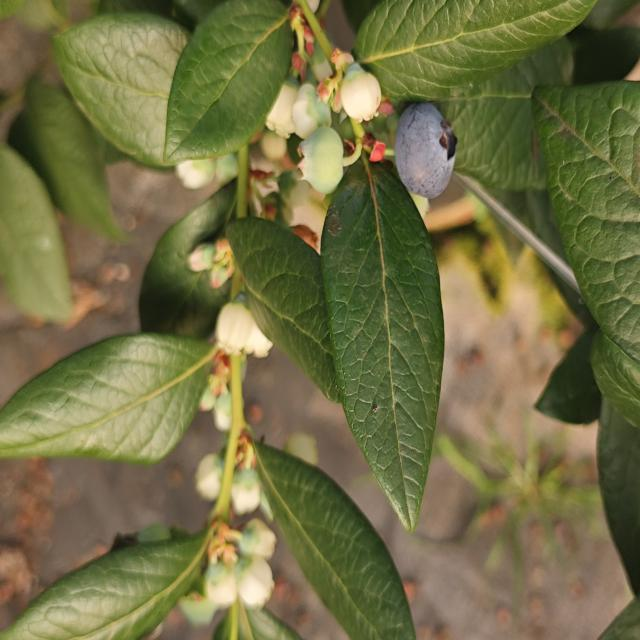ripe: (390, 94, 456, 191)
